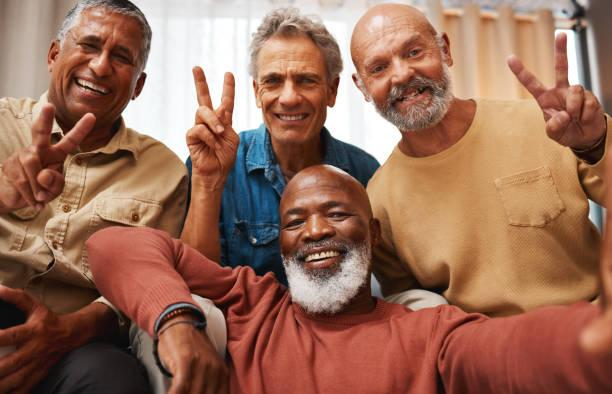peace_sign: (0, 96, 97, 232), (180, 62, 242, 181)
